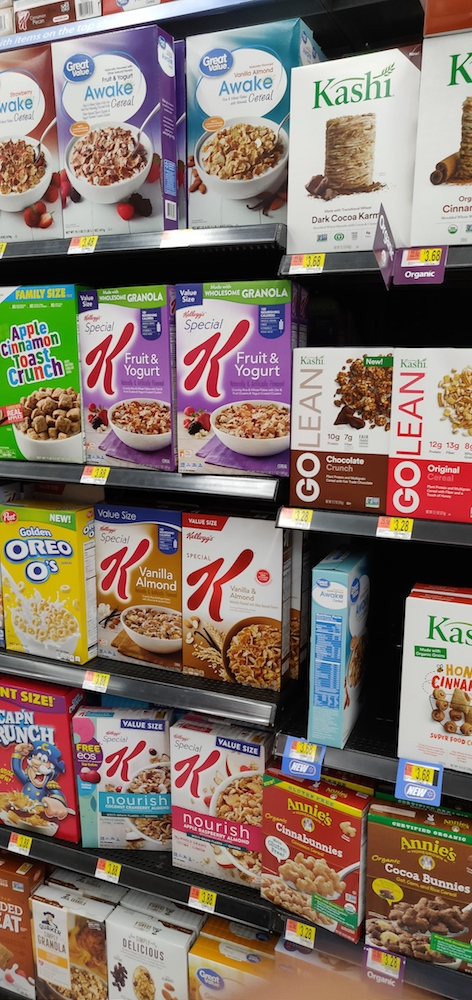Oreo Golden-568301011: (6, 506, 93, 658)
